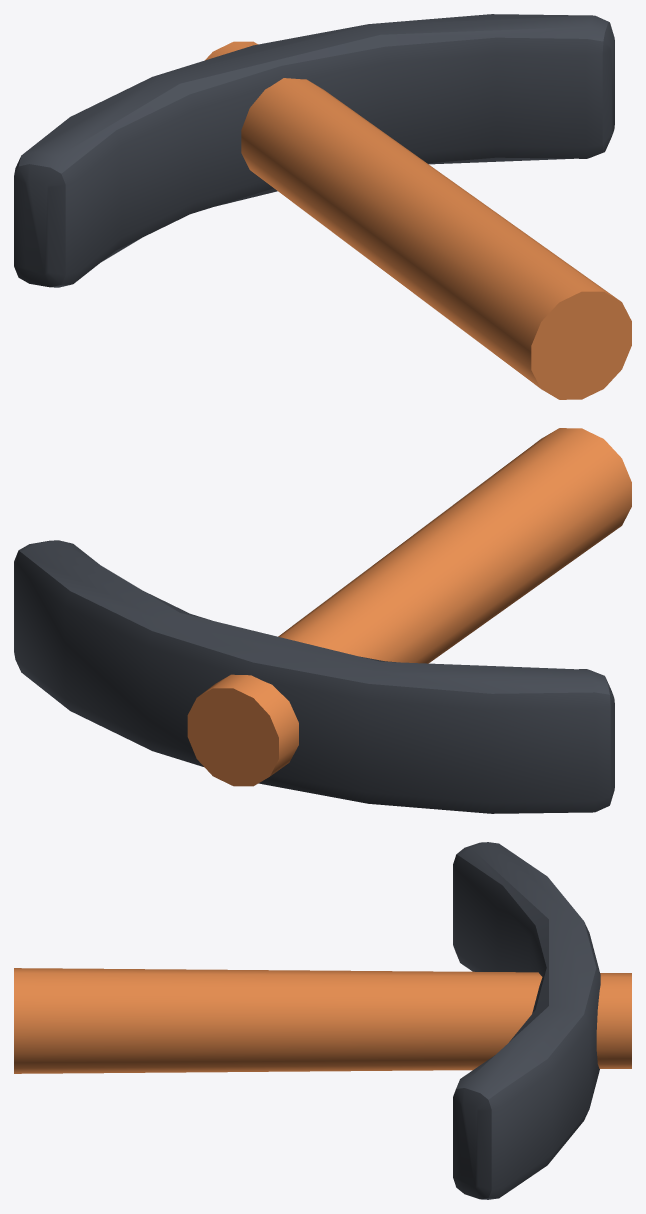
The model's file is Pickaxe.fbx.
The picture shows the model from 3 angles, top to bottom: view 1: azimuth 30°, elevation 25°; view 2: azimuth 150°, elevation 25°; view 3: azimuth 270°, elevation 25°; orthographic projection. The views are drawn at different scales.
Parts seen in each view (by area): view 1: Pickaxe; view 2: Pickaxe; view 3: Pickaxe.
Boxes of the visible parts, bbox=[...] form: Pickaxe: bbox=[14, 14, 631, 399]; Pickaxe: bbox=[14, 428, 631, 813]; Pickaxe: bbox=[14, 842, 631, 1199].
Size of the model in its own units: 223 by 46.94 by 225.
